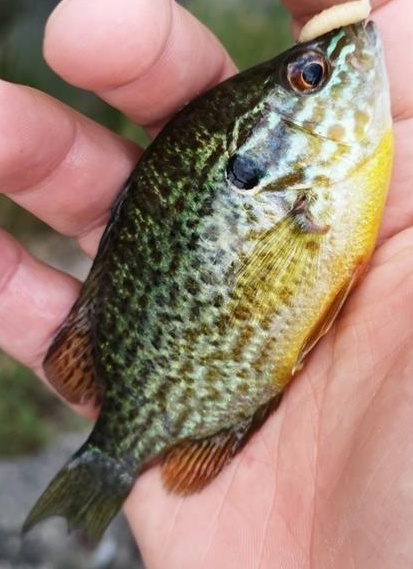Lepomis gibbosus: (20, 20, 393, 549)
